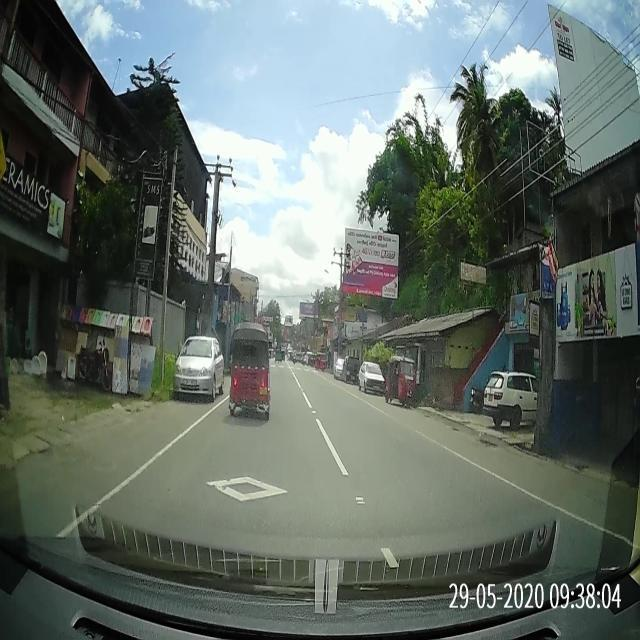diamond: (119, 460, 372, 523)
